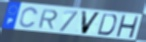7: (58, 9, 79, 32)
C: (18, 6, 39, 29)
D: (96, 13, 118, 37)
H: (115, 14, 140, 39)
R: (37, 9, 59, 30)
V: (80, 10, 102, 35)
